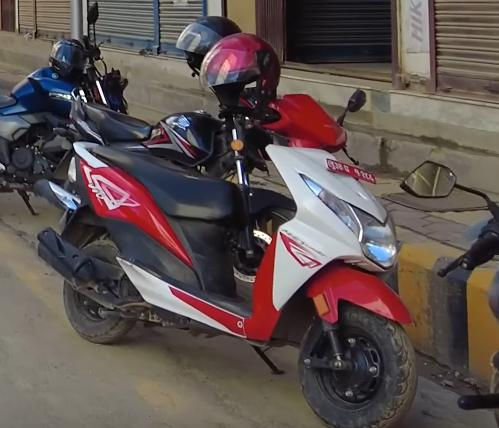scooter: (33, 93, 428, 428)
